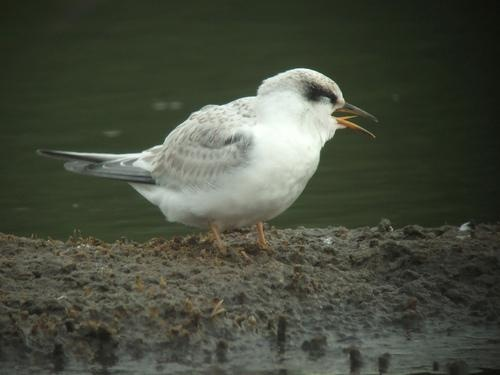bird: (34, 66, 378, 260)
